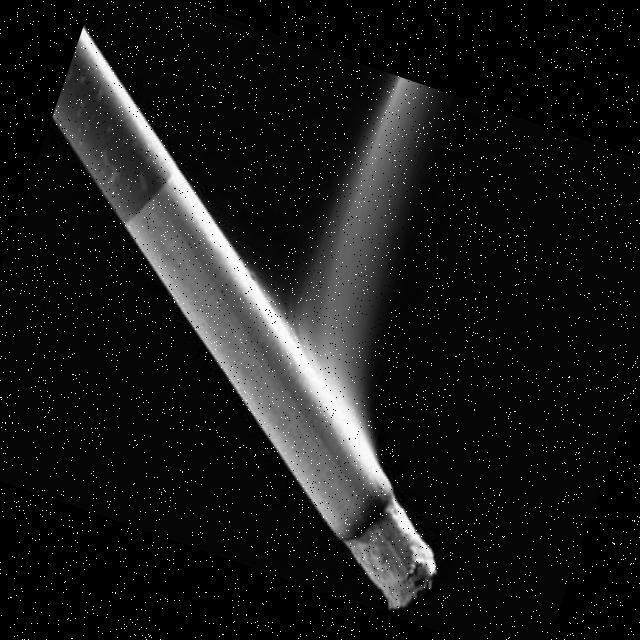cigarette: (0, 20, 575, 621)
